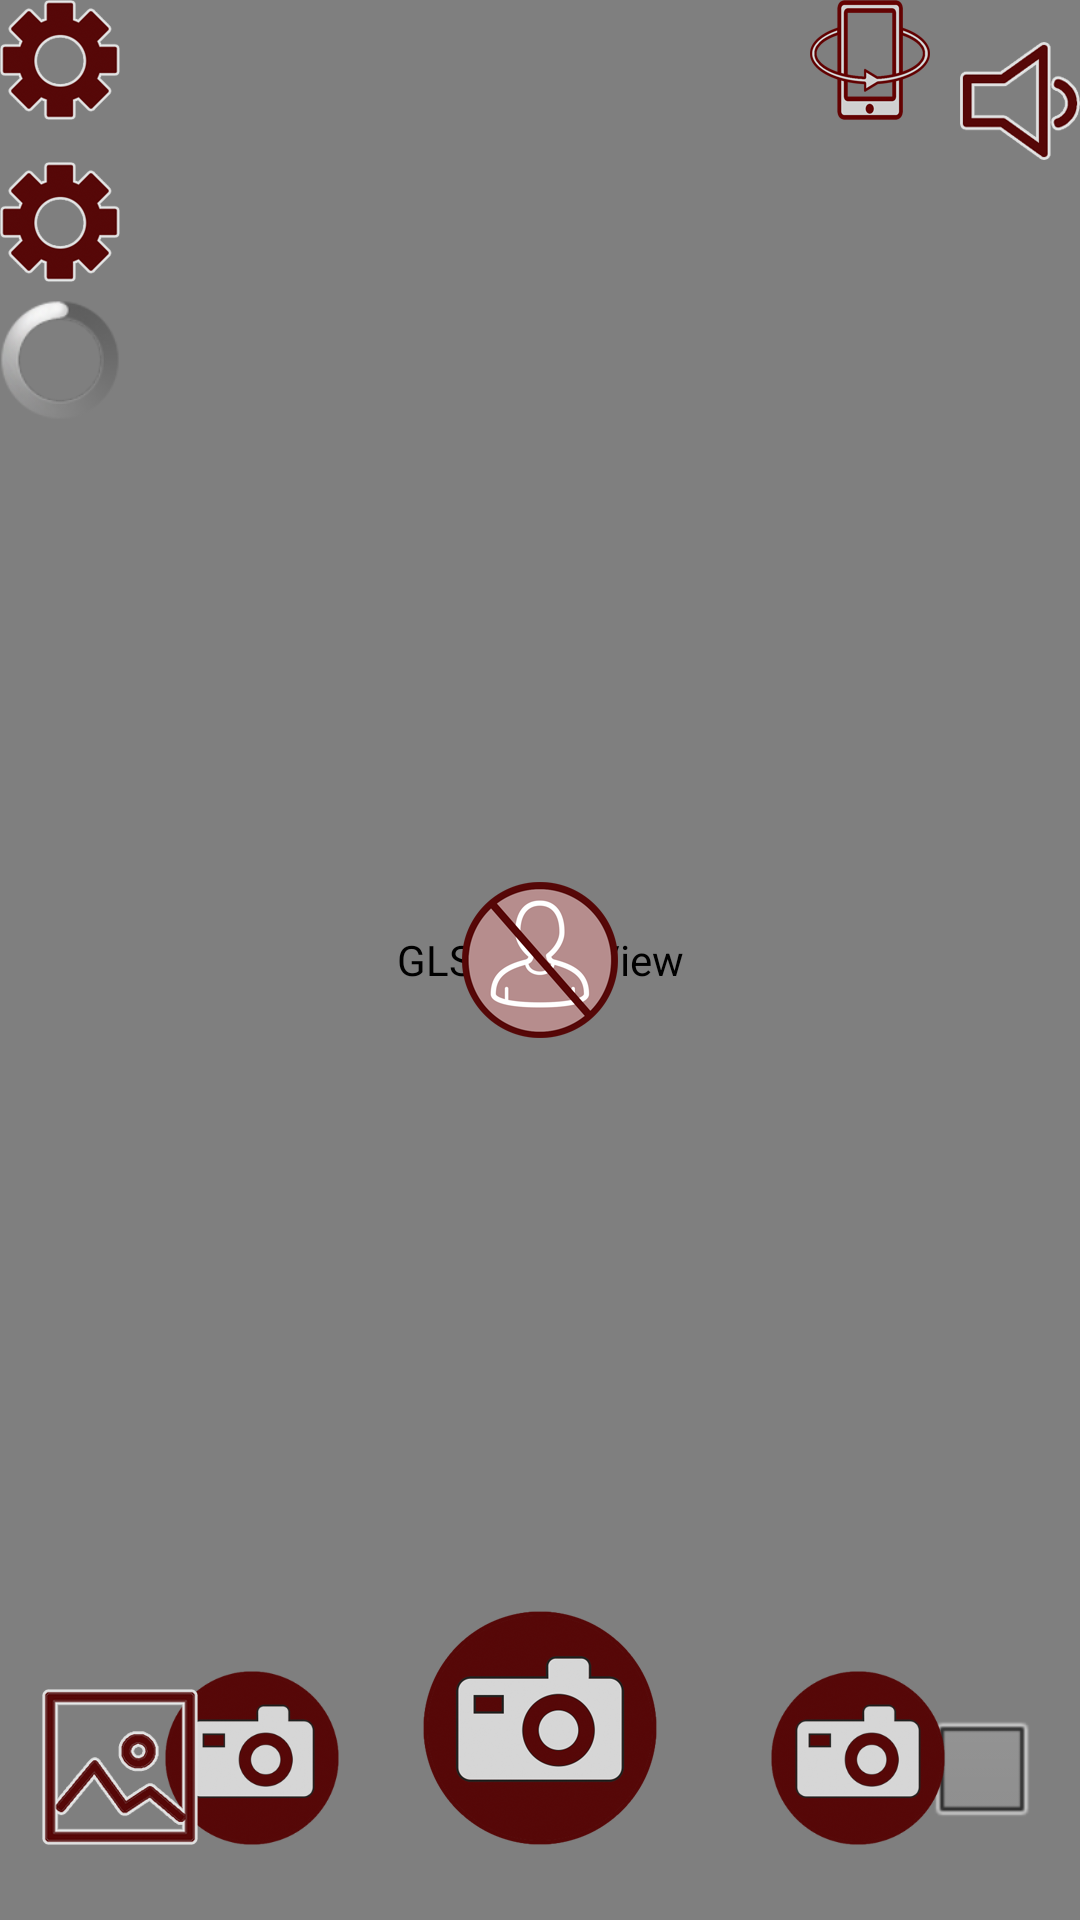

Icon bounding boxes for this 1080x1920 phone screenshot, format Rect(x1, y1, x2, y2):
camera turn: Rect(810, 0, 930, 120)
gallery: Rect(42, 1689, 198, 1845)
noperson: Rect(462, 882, 618, 1038)
sound: Rect(960, 42, 1080, 160)
